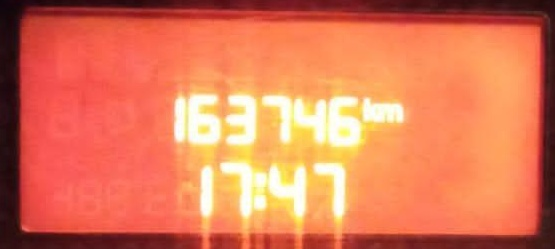1: (171, 92, 188, 145), (197, 159, 212, 214)
3: (225, 95, 253, 147)
4: (266, 161, 308, 220), (294, 96, 325, 146)
6: (189, 94, 221, 145), (328, 98, 361, 146)
7: (212, 157, 253, 220), (258, 91, 296, 158), (309, 160, 349, 219)
X: (378, 98, 404, 126), (255, 167, 268, 215), (360, 97, 376, 126)
